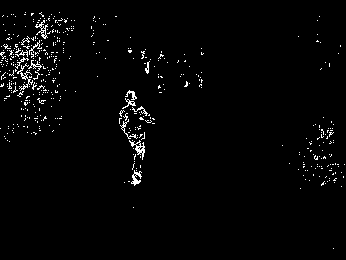person: (118, 90, 160, 186)
